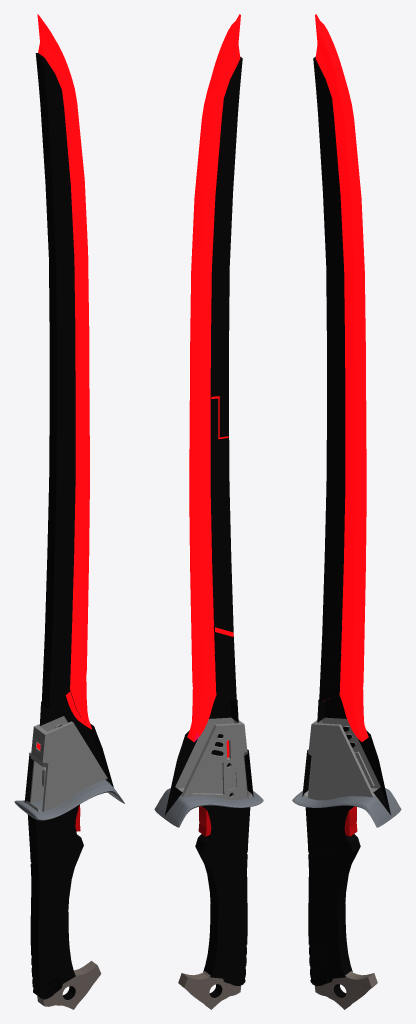
Rendered from w_cyber.glb.
3 views of the same model, side by side, from view 1: azimuth 30°, elevation 25°; view 2: azimuth 210°, elevation 25°; view 3: azimuth 330°, elevation 25° (orthographic).
Visible parts, largest first — view 1: Object_10; view 2: Object_10; view 3: Object_10.
Boxes of the visible parts, x1,y1,x2,y2 form: Object_10: (14, 14, 124, 1009); Object_10: (154, 14, 263, 1009); Object_10: (292, 14, 401, 1009).
Size of the model in its own units: 0.0934 by 1 by 0.0461.
10 materials, 3 textured.
